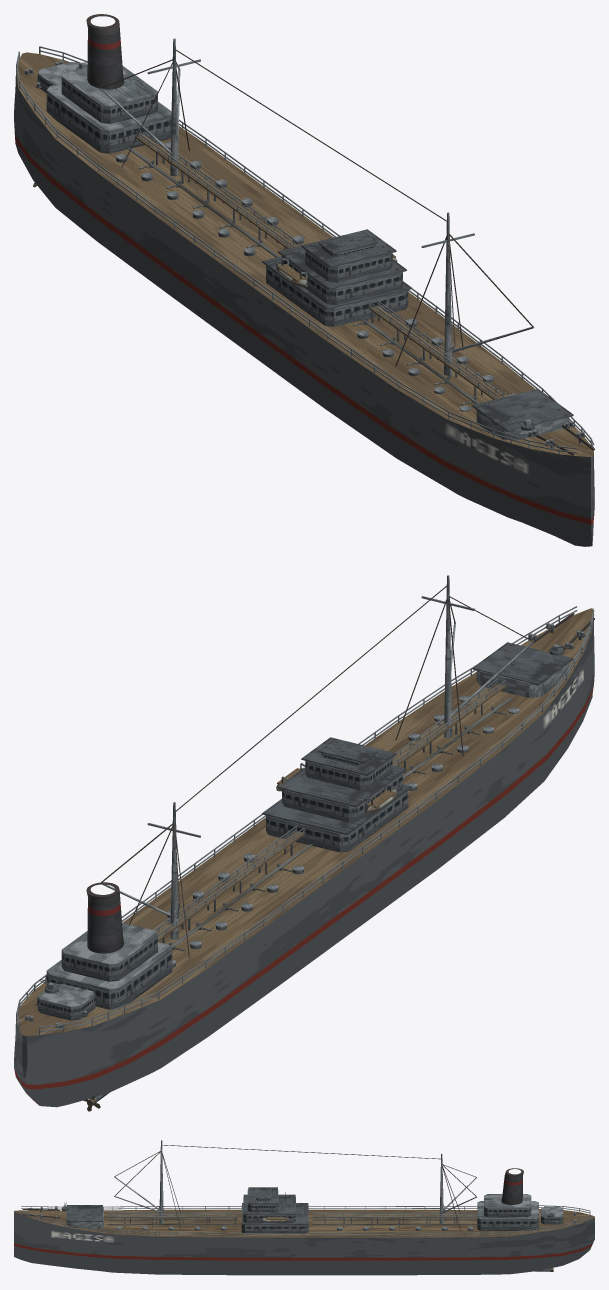
File: fleet-oiler-own.glb
3 renders of one model, top to bottom at view 1: azimuth 30°, elevation 25°; view 2: azimuth 150°, elevation 25°; view 3: azimuth 270°, elevation 25°, orthographic. The views are drawn at different scales.
Visible parts, largest first — view 1: Hull, WeatherDeck, AmidshipsBridgeAndQuarters, PoopAndEngineHouse, DeckEdgeRailings, Forecastle, RaisedCatwalk, CatwalkRailings, Funnel, ForeAndAftCargoMasts, AntennaeAndDerrickRigging, CargoPipesAndValves (+2 smaller); view 2: Hull, WeatherDeck, AmidshipsBridgeAndQuarters, PoopAndEngineHouse, DeckEdgeRailings, Forecastle, RaisedCatwalk, Funnel, CatwalkRailings, ForeAndAftCargoMasts, AntennaeAndDerrickRigging, CargoPipesAndValves (+1 smaller); view 3: Hull, WeatherDeck, AmidshipsBridgeAndQuarters, PoopAndEngineHouse, DeckEdgeRailings, CargoPipesAndValves, CatwalkRailings, RaisedCatwalk, Forecastle, AntennaeAndDerrickRigging, Funnel, ForeAndAftCargoMasts (+3 smaller).
Boxes of the visible parts, left/top/right/bottom form: Hull: left=14, top=73, right=594, bottom=546; WeatherDeck: left=16, top=52, right=593, bottom=457; AmidshipsBridgeAndQuarters: left=262, top=229, right=412, bottom=326; PoopAndEngineHouse: left=37, top=62, right=171, bottom=153; DeckEdgeRailings: left=16, top=46, right=594, bottom=454; Forecastle: left=472, top=389, right=573, bottom=440; RaisedCatwalk: left=135, top=134, right=502, bottom=399; CatwalkRailings: left=135, top=129, right=505, bottom=398; Funnel: left=86, top=14, right=124, bottom=89; ForeAndAftCargoMasts: left=147, top=38, right=474, bottom=375; AntennaeAndDerrickRigging: left=101, top=49, right=533, bottom=366; CargoPipesAndValves: left=127, top=147, right=506, bottom=404; Hull: left=14, top=621, right=594, bottom=1107; WeatherDeck: left=16, top=608, right=593, bottom=1036; AmidshipsBridgeAndQuarters: left=262, top=737, right=412, bottom=852; PoopAndEngineHouse: left=37, top=922, right=172, bottom=1020; DeckEdgeRailings: left=16, top=606, right=594, bottom=1035; Forecastle: left=472, top=642, right=573, bottom=697; RaisedCatwalk: left=157, top=684, right=505, bottom=943; Funnel: left=86, top=882, right=123, bottom=953; CatwalkRailings: left=154, top=678, right=505, bottom=938; ForeAndAftCargoMasts: left=147, top=575, right=474, bottom=939; AntennaeAndDerrickRigging: left=101, top=585, right=533, bottom=958; CargoPipesAndValves: left=166, top=697, right=513, bottom=951; Hull: left=14, top=1211, right=594, bottom=1275; WeatherDeck: left=14, top=1209, right=594, bottom=1237; AmidshipsBridgeAndQuarters: left=241, top=1187, right=308, bottom=1233; PoopAndEngineHouse: left=477, top=1194, right=563, bottom=1230; DeckEdgeRailings: left=21, top=1205, right=590, bottom=1237; CargoPipesAndValves: left=107, top=1218, right=477, bottom=1227; CatwalkRailings: left=107, top=1212, right=477, bottom=1217; RaisedCatwalk: left=107, top=1215, right=477, bottom=1223; Forecastle: left=66, top=1205, right=103, bottom=1229; AntennaeAndDerrickRigging: left=114, top=1145, right=476, bottom=1230; Funnel: left=501, top=1168, right=523, bottom=1204; ForeAndAftCargoMasts: left=159, top=1140, right=443, bottom=1223.
Size of the model in its own units: 17.68 by 36.08 by 144.
1 material, 1 textured.
